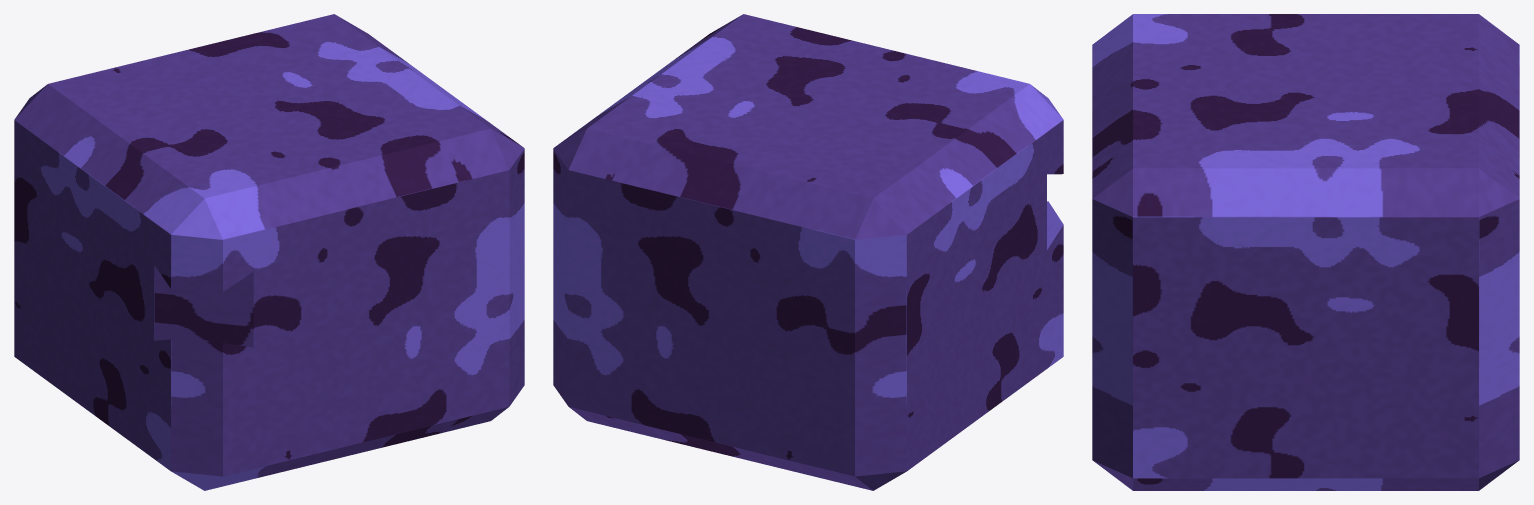
3 views of the same model, side by side, from view 1: azimuth 30°, elevation 25°; view 2: azimuth 150°, elevation 25°; view 3: azimuth 270°, elevation 25° (orthographic). The views are drawn at different scales.
Parts seen in each view (by area): view 1: geometry_0; view 2: geometry_0; view 3: geometry_0.
Boxes of the visible parts, left/top/right/bottom form: geometry_0: left=14, top=14, right=524, bottom=490; geometry_0: left=553, top=14, right=1063, bottom=490; geometry_0: left=1092, top=14, right=1519, bottom=490.
Bounding box in the file's own units: 0.7458 × 0.5888 × 0.7066.
Materials: 1 (1 with a texture image).
